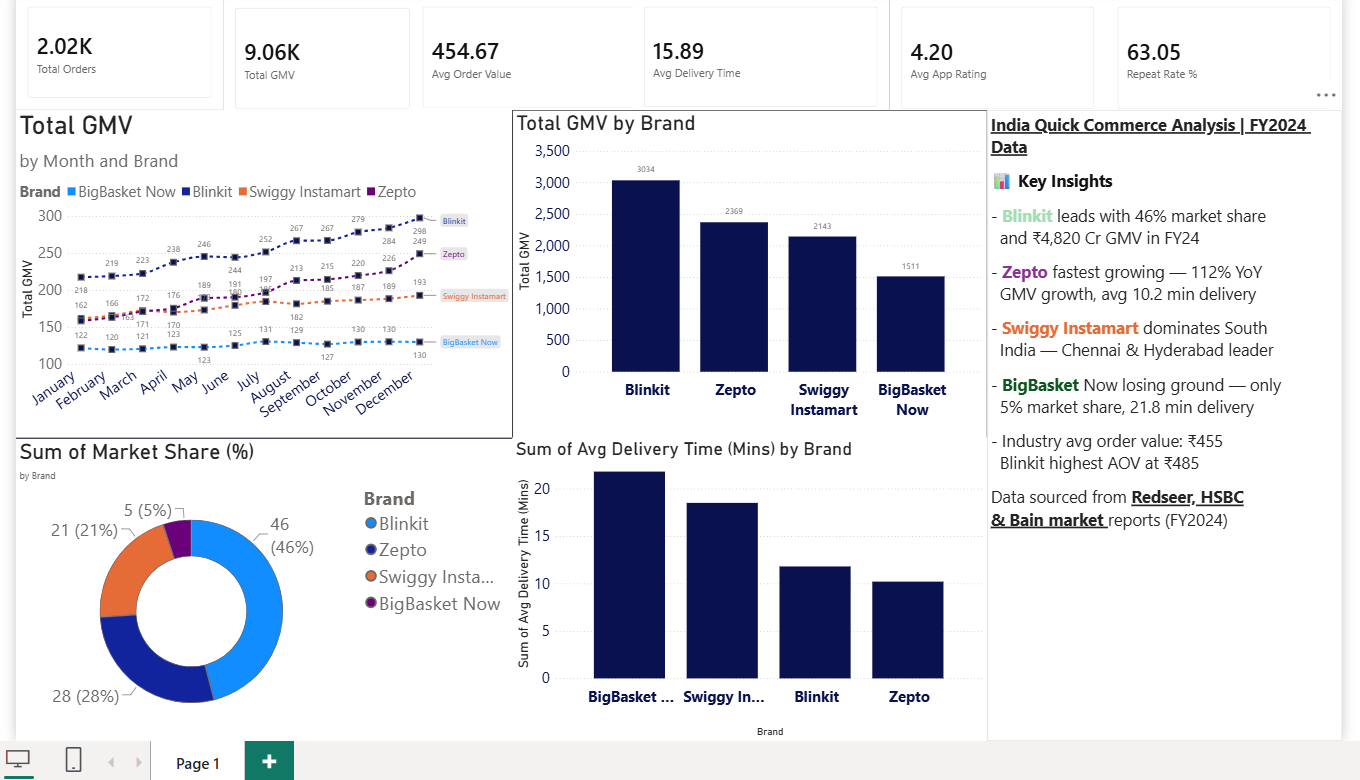

The dashboard page shown, as its layout file describes it:
{"tool":"powerbi","page":{"name":"Page 1","canvas":[1920,1080],"ordinal":0},"visuals":[{"type":"cardVisual","fields":{"Data":["Measures (2).Total GMV"]},"box":[300.4,1.8,287.7,181],"z":0},{"type":"cardVisual","fields":{"Data":["Measures (2).Avg Order Value"]},"box":[571.9,0,347.5,181],"z":1000},{"type":"cardVisual","fields":{"Data":["Measures (2).Avg App Rating"]},"box":[1264.4,0,313.3,182.2],"z":2000},{"type":"cardVisual","fields":{"Data":["Measures (2).Repeat Rate %"]},"box":[1577.8,0,342.2,182.2],"z":3000},{"type":"cardVisual","fields":{"Data":["Measures (2).Avg Delivery Time"]},"box":[892.2,0,372.8,179.2],"z":4000},{"type":"lineChart","fields":{"Category":["Monthly Performance.Month.Variation.Date Hierarchy.Month"],"Y":["Measures (2).Total GMV"],"Series":["Monthly Performance.Brand"]},"box":[0,166.5,718.4,474.1],"z":5000},{"type":"lineStackedColumnComboChart","fields":{"Category":["Monthly Performance.Brand"],"Y":["Measures (2).Total GMV"]},"box":[718.4,166.5,687.7,475.9],"z":6000},{"type":"donutChart","fields":{"Y":["Sum(Brand Scorecard.Market Share (%))"],"Category":["Brand Scorecard.Brand"]},"box":[0,642.4,722.1,437.9],"z":7000},{"type":"lineStackedColumnComboChart","fields":{"Category":["Brand Scorecard.Brand"],"Y":["Sum(Brand Scorecard.Avg Delivery Time (Mins))"]},"box":[718.4,640.6,687.7,439.7],"z":8000},{"type":"textbox","box":[1406.1,166.5,513.9,913.9],"z":9000},{"type":"cardVisual","fields":{"Data":["Measures (2).Total Orders"]},"box":[0,0,300.4,166.5],"z":10000}]}

Visuals, with their boxes on the page's 1920x1080 design canvas (x1, y1, x2, y2). These are canvas units, not pixel positions in the 1360x780 screenshot, which may show the page scaled, cropped or inside an application window:
cardVisual - Measures (2).Total GMV: x1=300 y1=2 x2=588 y2=183
cardVisual - Measures (2).Avg Order Value: x1=572 y1=0 x2=919 y2=181
cardVisual - Measures (2).Avg App Rating: x1=1264 y1=0 x2=1578 y2=182
cardVisual - Measures (2).Repeat Rate %: x1=1578 y1=0 x2=1920 y2=182
cardVisual - Measures (2).Avg Delivery Time: x1=892 y1=0 x2=1265 y2=179
lineChart - Monthly Performance.Month.Variation.Date Hierarchy.Month x Measures (2).Total GMV: x1=0 y1=166 x2=718 y2=641
lineStackedColumnComboChart - Monthly Performance.Brand x Measures (2).Total GMV: x1=718 y1=166 x2=1406 y2=642
donutChart - Sum(Brand Scorecard.Market Share (%)) x Brand Scorecard.Brand: x1=0 y1=642 x2=722 y2=1080
lineStackedColumnComboChart - Brand Scorecard.Brand x Sum(Brand Scorecard.Avg Delivery Time (Mins)): x1=718 y1=641 x2=1406 y2=1080
textbox: x1=1406 y1=166 x2=1920 y2=1080
cardVisual - Measures (2).Total Orders: x1=0 y1=0 x2=300 y2=166
